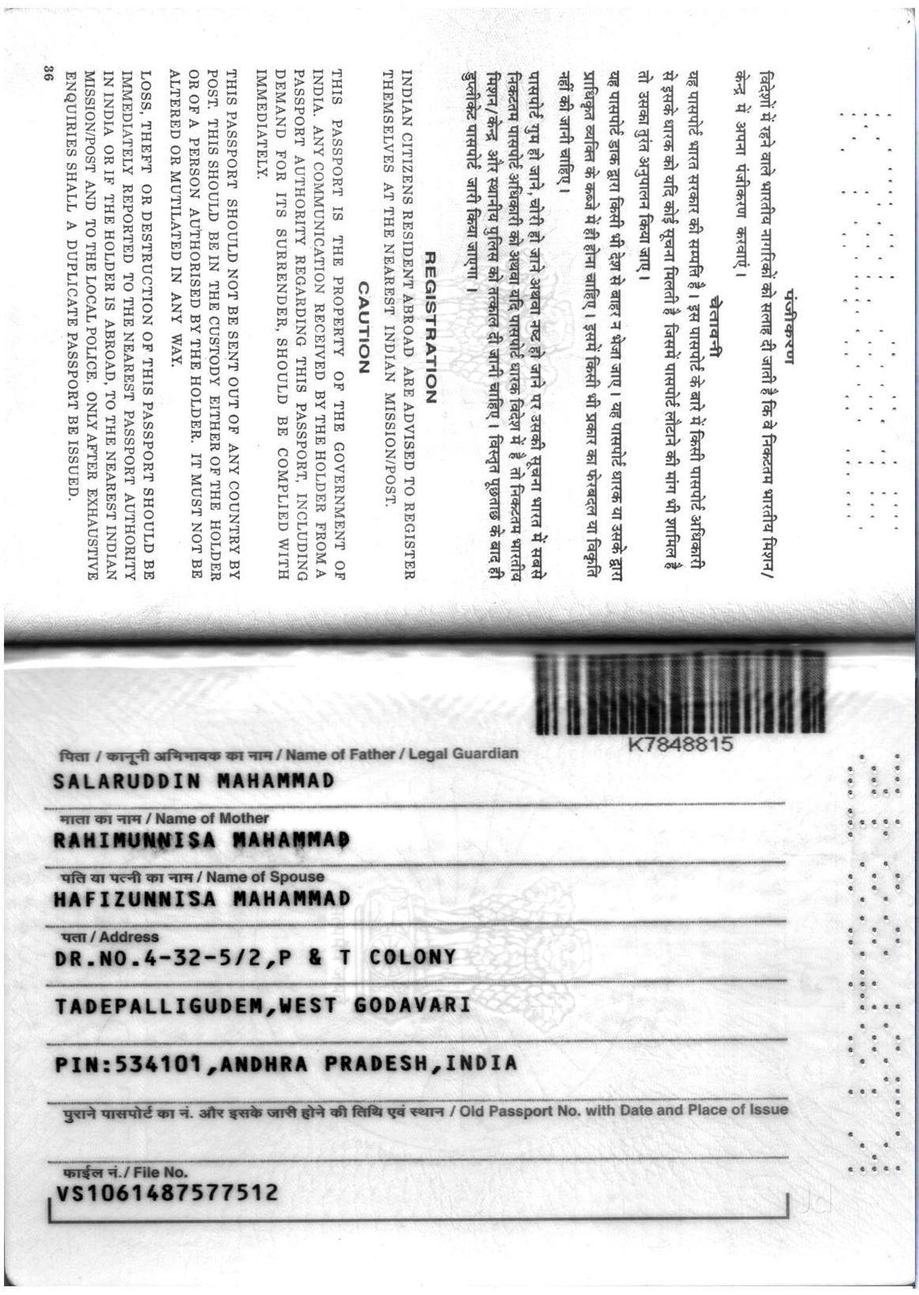File_no: (53, 1180, 282, 1212)
address: (46, 942, 523, 1084)
father_name: (37, 763, 361, 803)
mother_name: (34, 818, 373, 865)
passport_no: (619, 730, 740, 762)
spouse_name: (34, 879, 378, 927)
